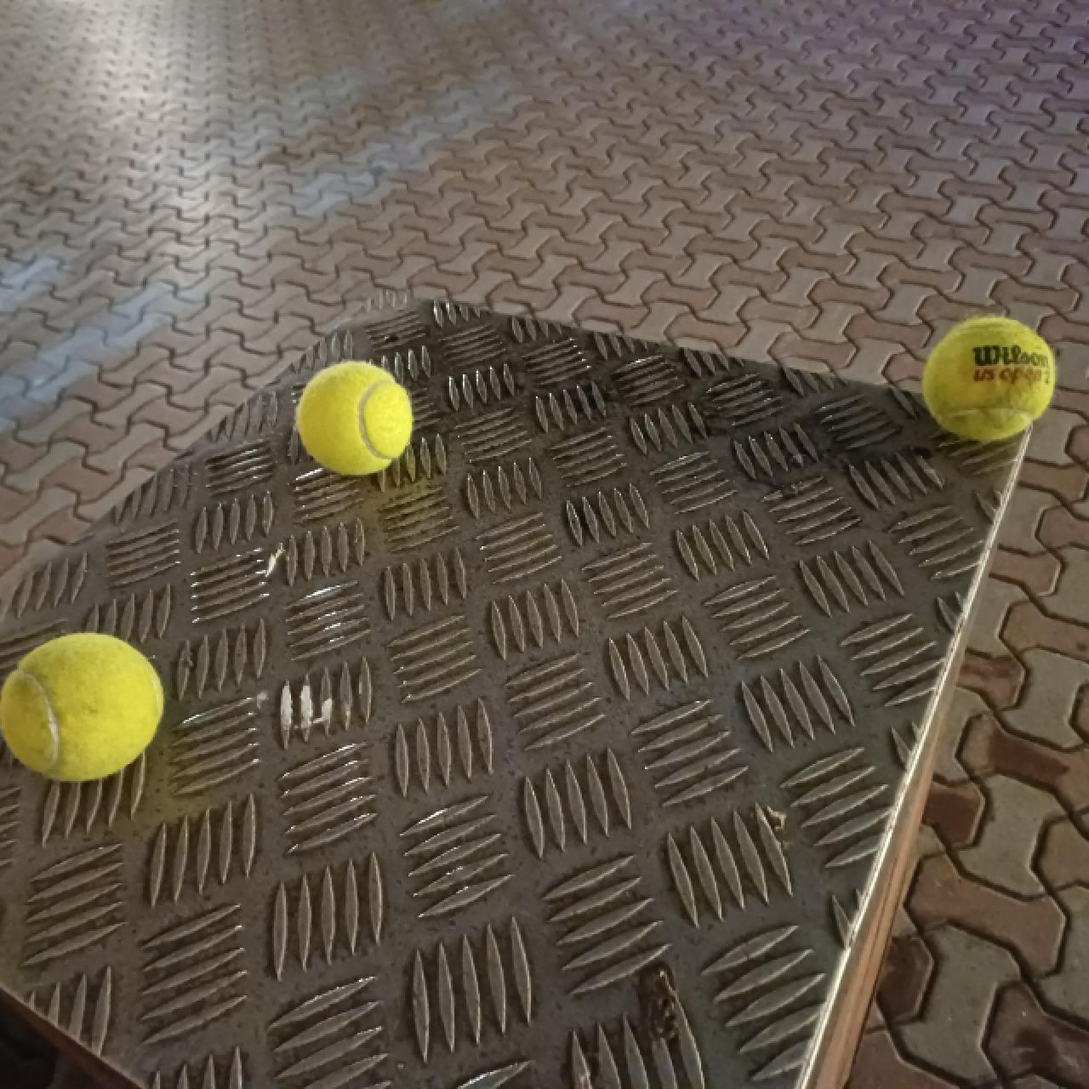tennis-ball: (0, 631, 166, 784), (922, 312, 1058, 442), (294, 357, 413, 476)
